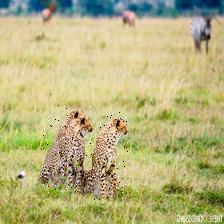Cheetha: (38, 105, 94, 193), (91, 112, 129, 202)
